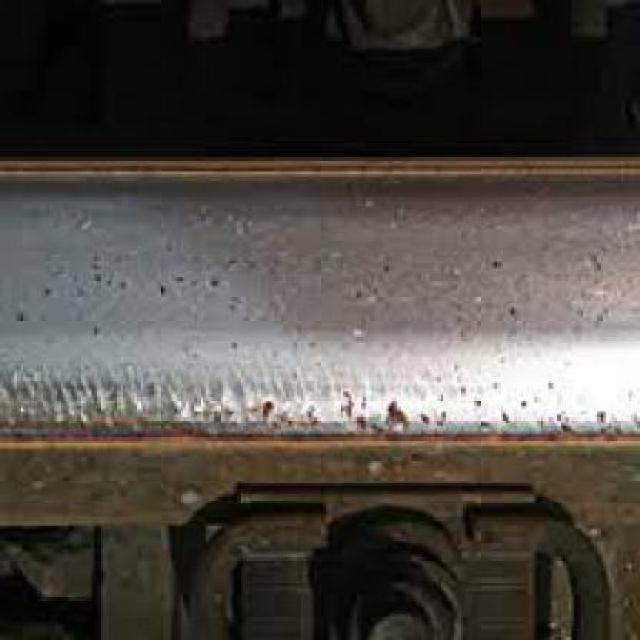defective: (0, 138, 640, 620)
